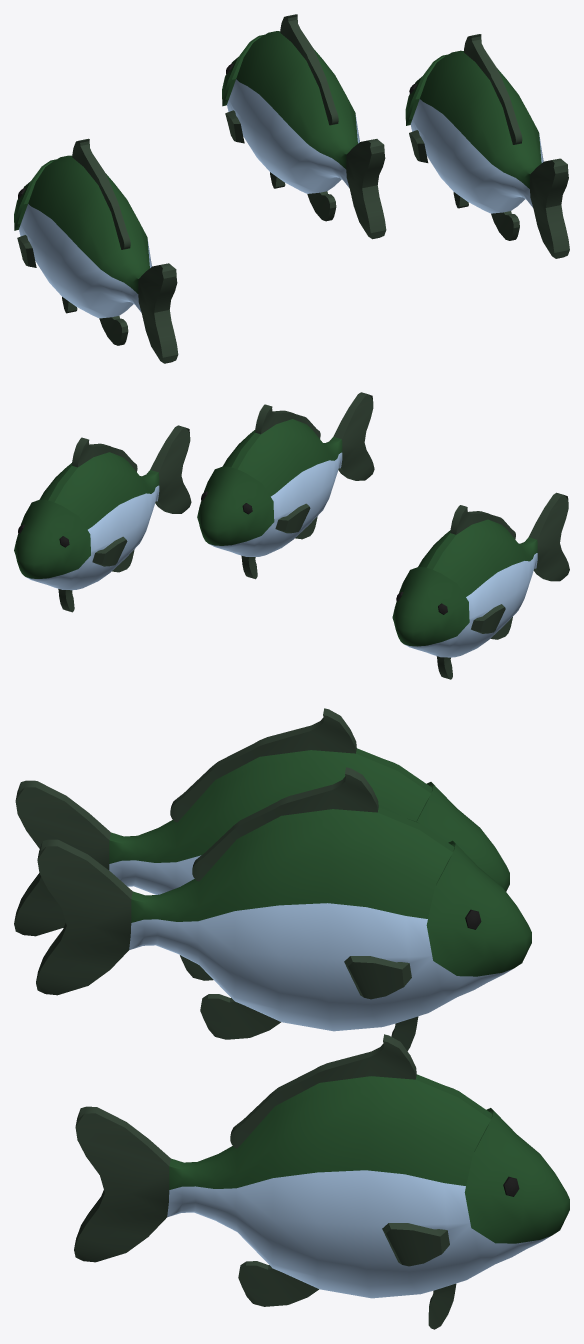
File: peces2.obj
3 views of the same model, one above another, from view 1: azimuth 30°, elevation 25°; view 2: azimuth 150°, elevation 25°; view 3: azimuth 270°, elevation 25° (orthographic). The views are drawn at different scales.
Visible parts, largest first — view 1: fish02.006, fish02.002, fish02.001; view 2: fish02.002, fish02.001, fish02.006; view 3: fish02.006, fish02.001, fish02.002.
Part boxes in pixels (x1,y1,x2,y2): fish02.006: (405, 34, 569, 258); fish02.002: (14, 138, 178, 363); fish02.001: (222, 14, 386, 239); fish02.002: (392, 492, 569, 679); fish02.001: (197, 392, 374, 579); fish02.006: (14, 425, 191, 612); fish02.006: (74, 1034, 569, 1329); fish02.001: (36, 767, 531, 1050); fish02.002: (14, 708, 509, 980).
Bounding box in the file's own units: 0.5657 × 0.2712 × 0.3371.
